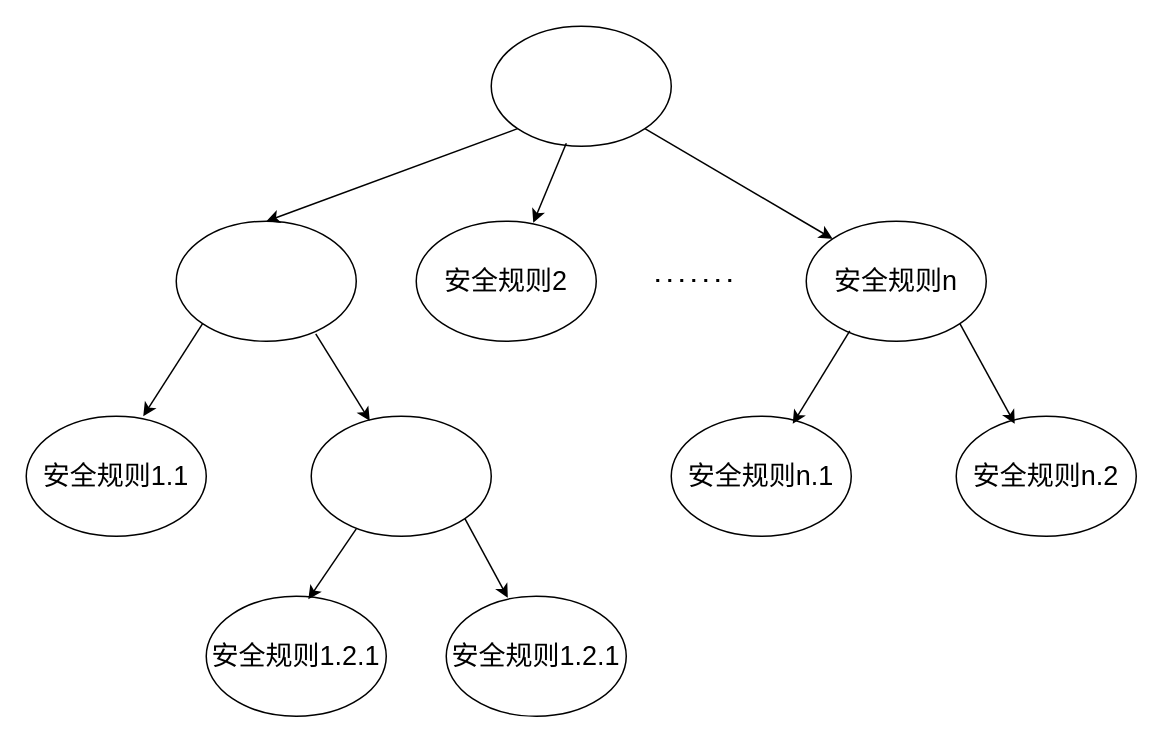
This 1163x743 diagram has some shape labels left out. Here are the shapes that lost their labels. From the top down, the centre of each, then its label:
point (580, 85): 安全策略
point (265, 280): 安全规则1
point (400, 475): 安全规则1.2
